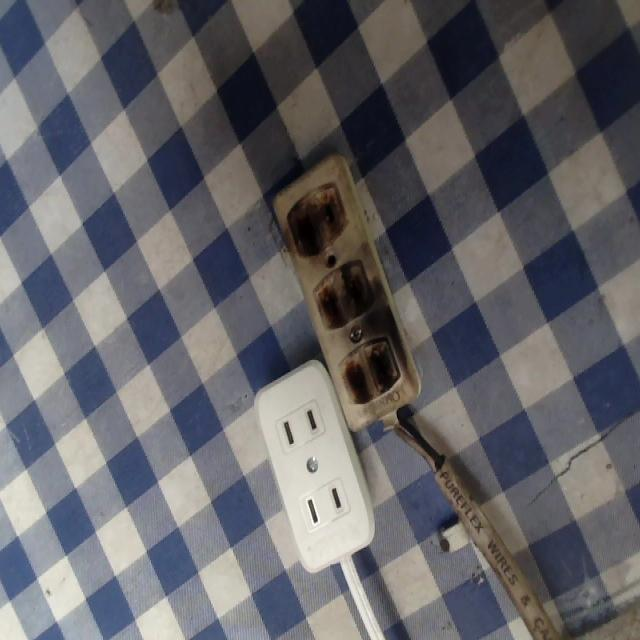-: (281, 177, 349, 263), (337, 329, 405, 411), (304, 256, 375, 332)
